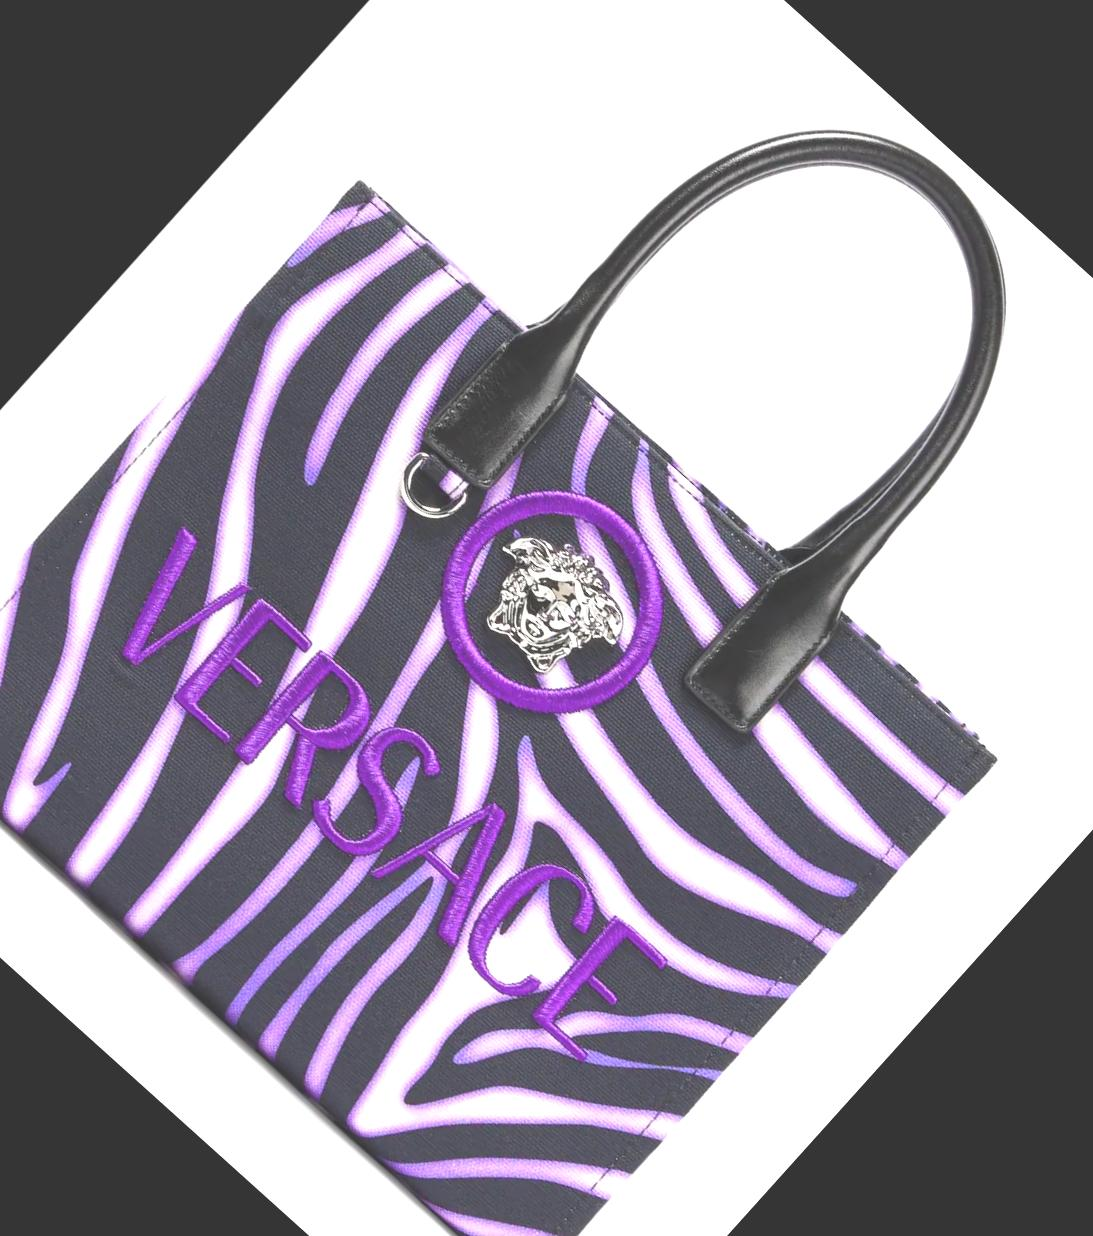VERSACE: (400, 447, 709, 755)
